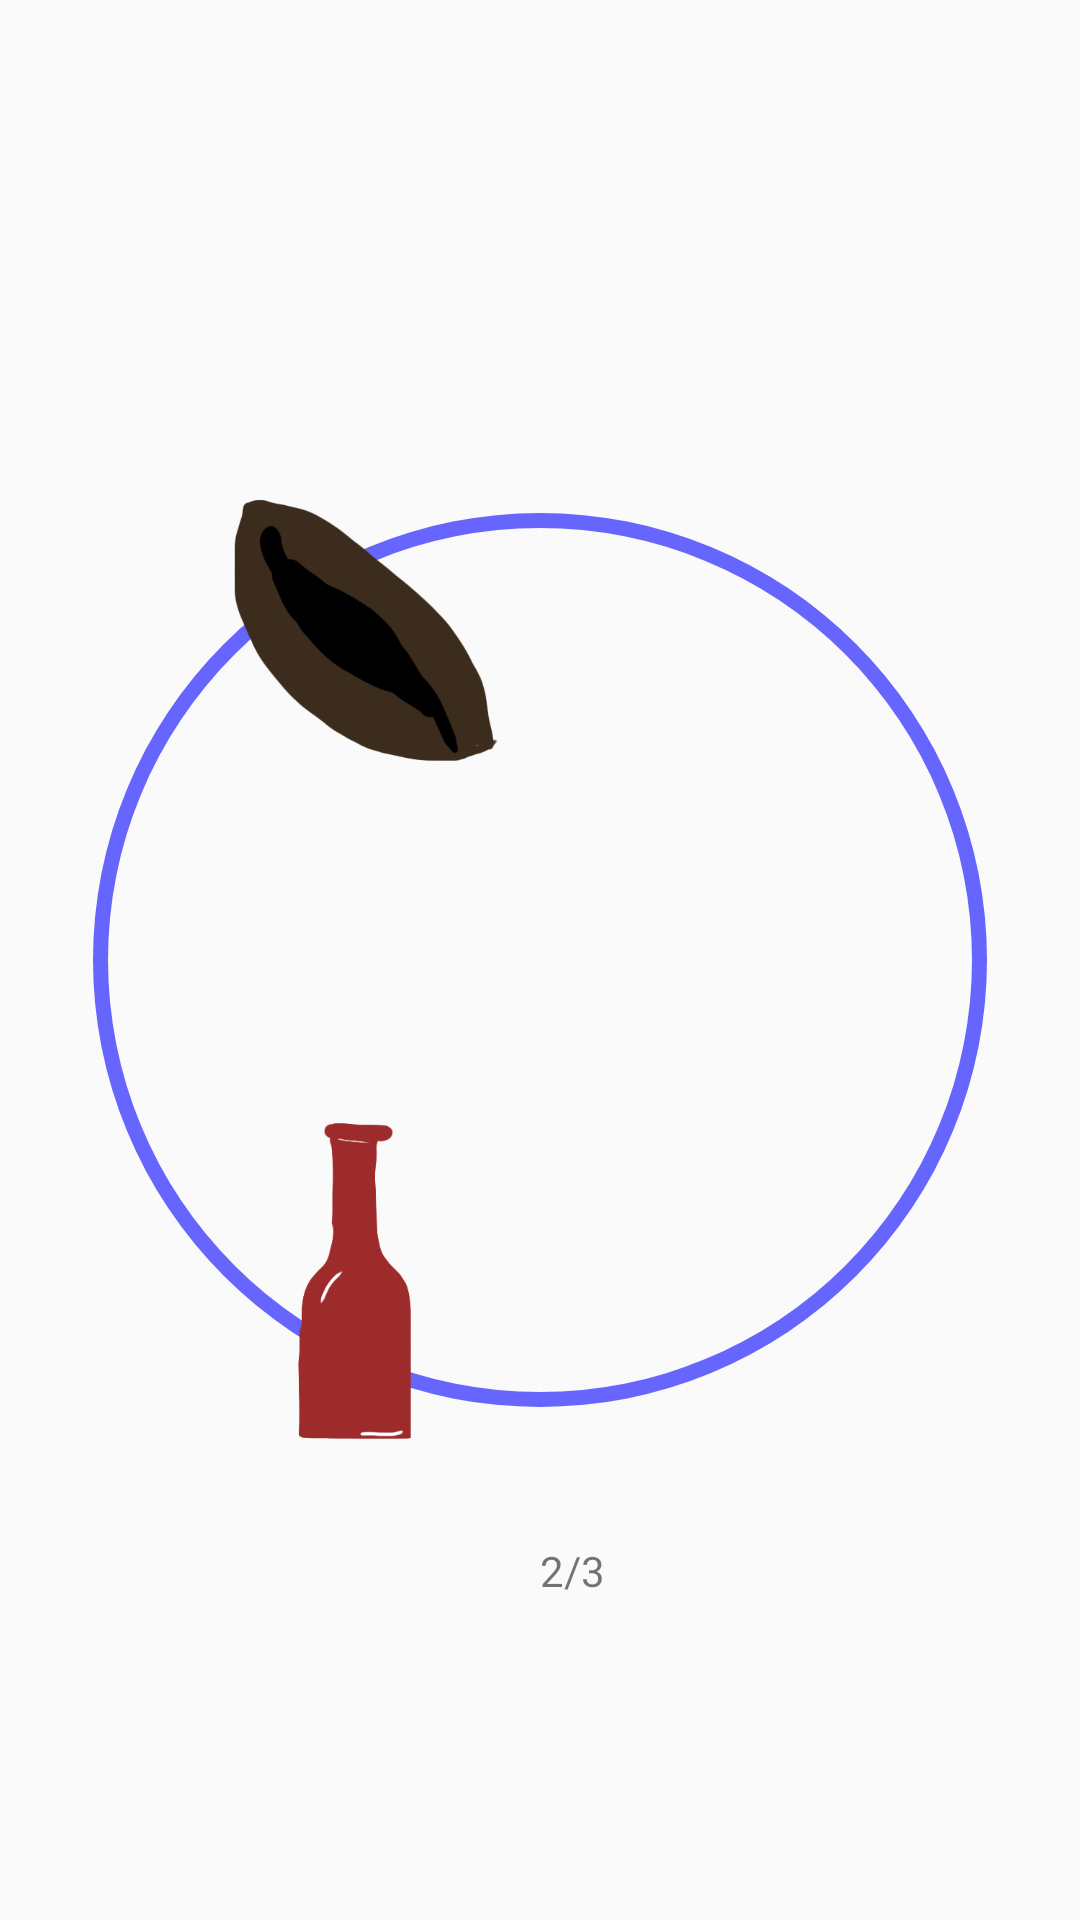

Icons on this 1080w x 1920h Android screen, each with its box as (x1, y1, x2, y2):
alcohol: (180, 1123, 540, 1439)
caffiene: (180, 500, 540, 761)
